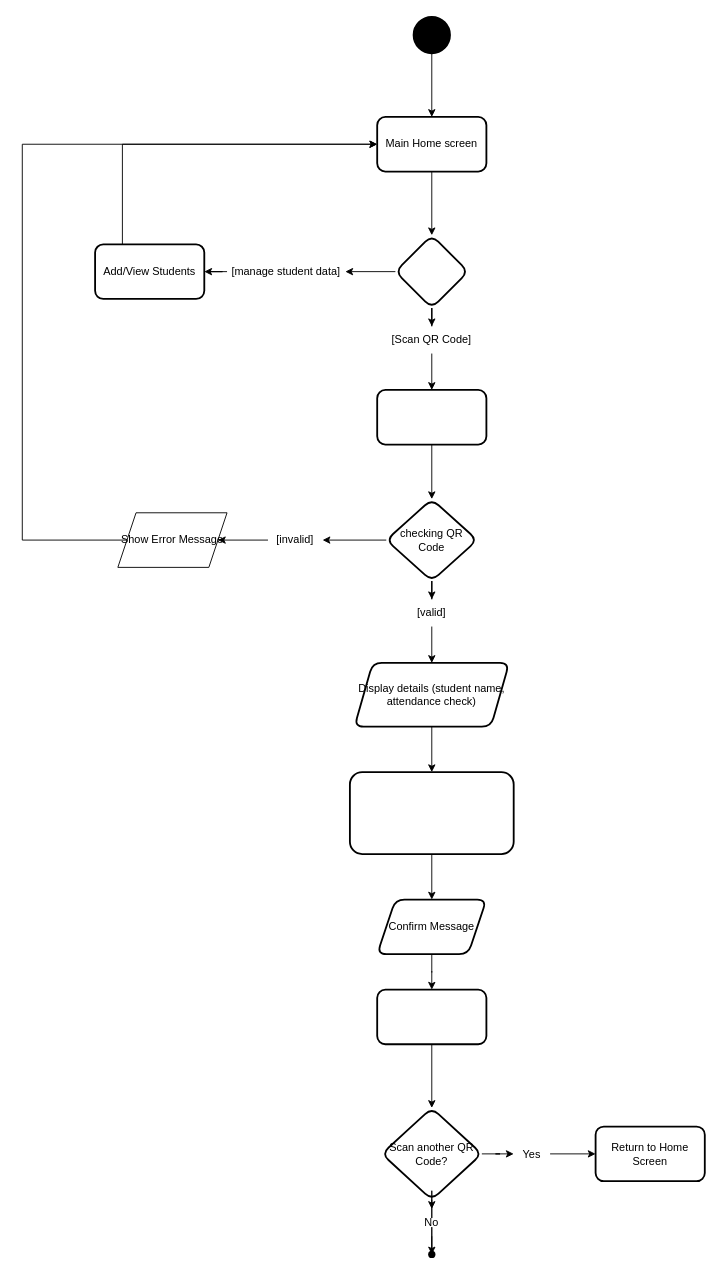
Some shapes in this 722 by 1279 pixel diagram are drawn without their labels. Here are the shapes that lost their labels. From the top down, the box of each, then its label:
(394, 234, 469, 308): choose action
(376, 389, 487, 445): Scan student's QR Code
(349, 771, 514, 854): Choose Check-in or Check-out for both Morning and Afternoon Session
(376, 988, 487, 1045): Save Record
